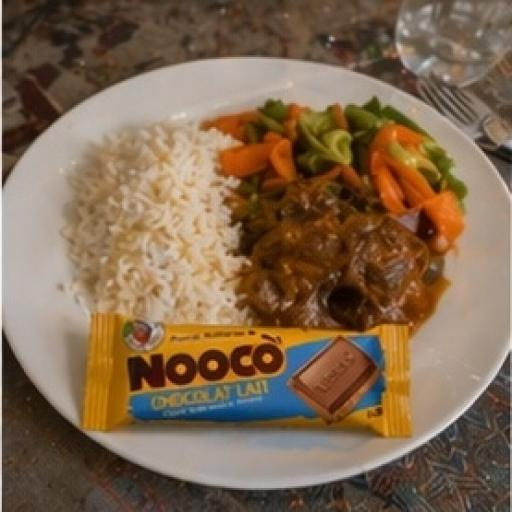biscuit-detection: (58, 284, 441, 476)
